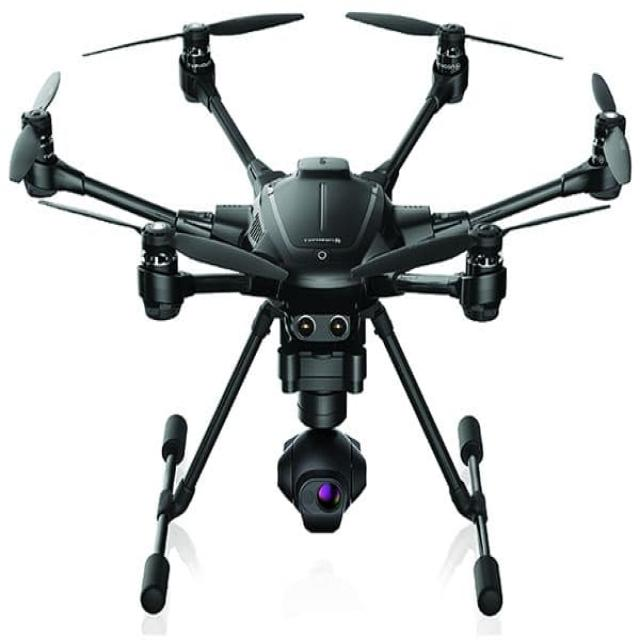drone: (8, 0, 640, 620)
